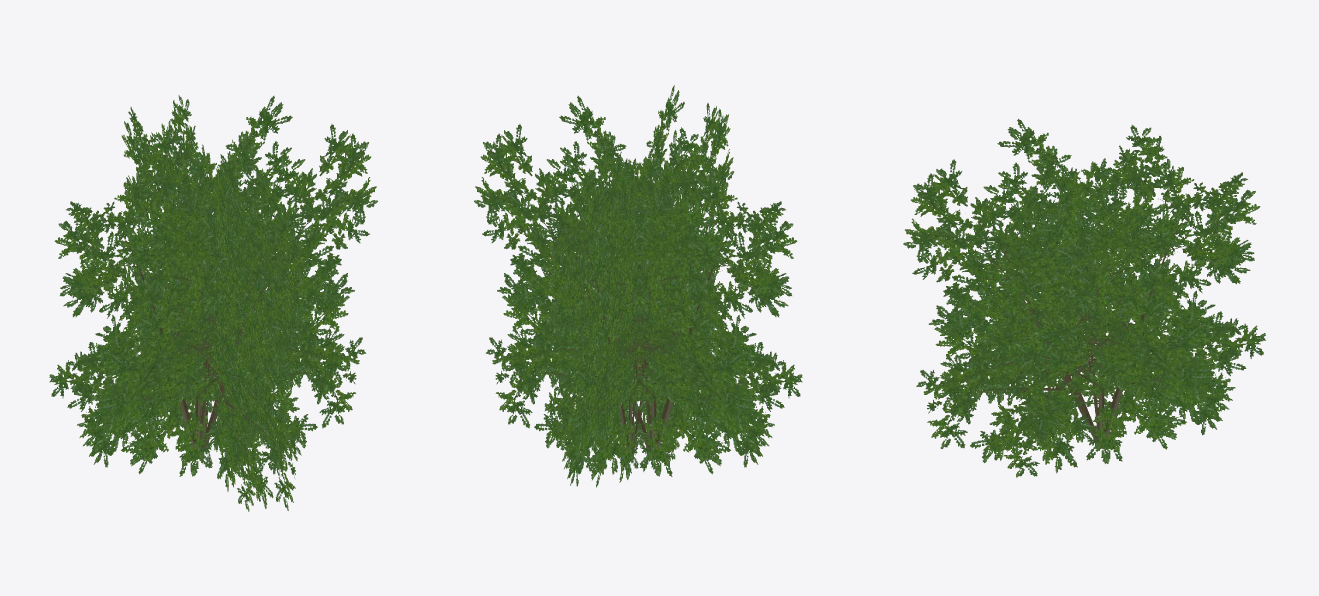
Rendered from bush_a_far.glb.
The picture shows the model from 3 angles, left to right: view 1: azimuth 30°, elevation 25°; view 2: azimuth 150°, elevation 25°; view 3: azimuth 270°, elevation 25°; orthographic projection. The views are drawn at different scales.
Visible parts, largest first — view 1: impostor; view 2: impostor; view 3: impostor.
Boxes of the visible parts, bbox=[...] form: impostor: bbox=[49, 95, 377, 511]; impostor: bbox=[474, 85, 802, 487]; impostor: bbox=[903, 118, 1265, 477].
Bounding box in the file's own units: 1.66 × 1.6 × 1.66.
1 material, 1 textured.
